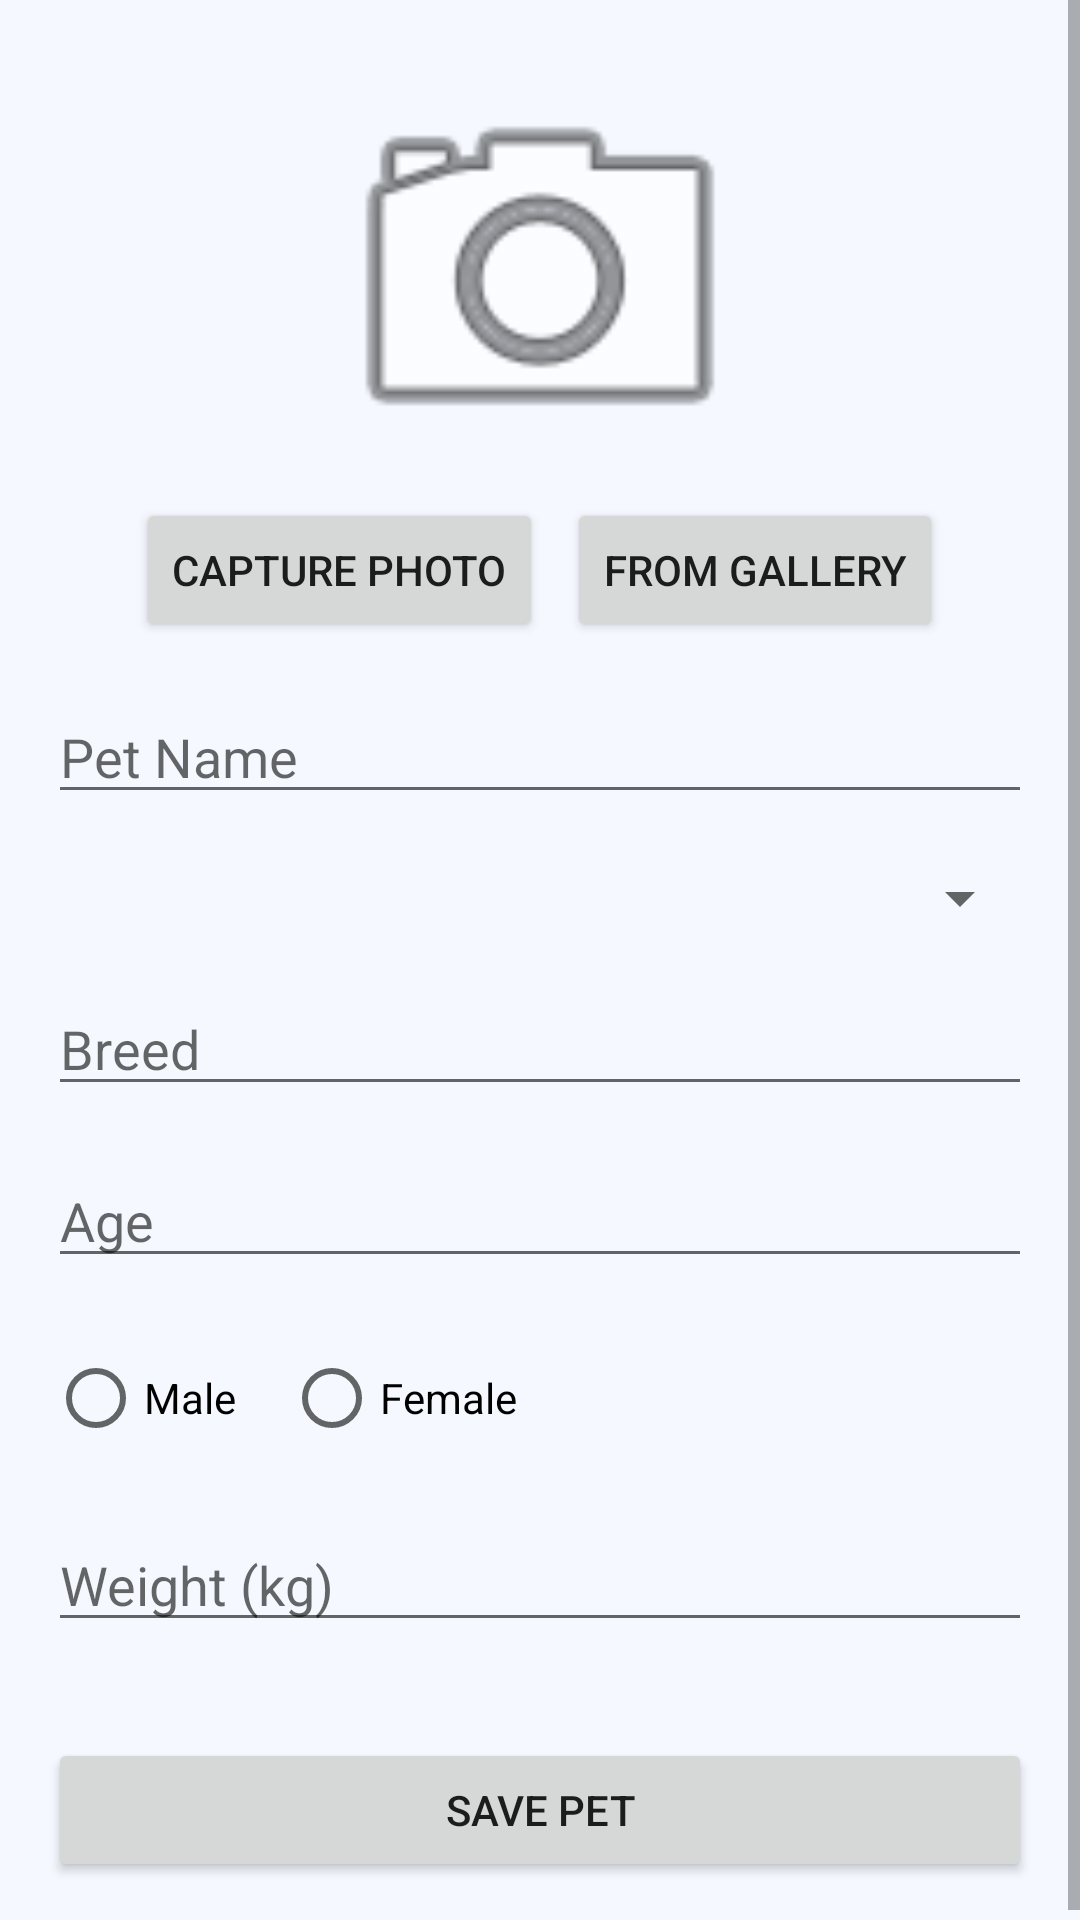

Named icons in this screenshot (1080×1920) and their centers, [x,y]:
camera: [540,266]
